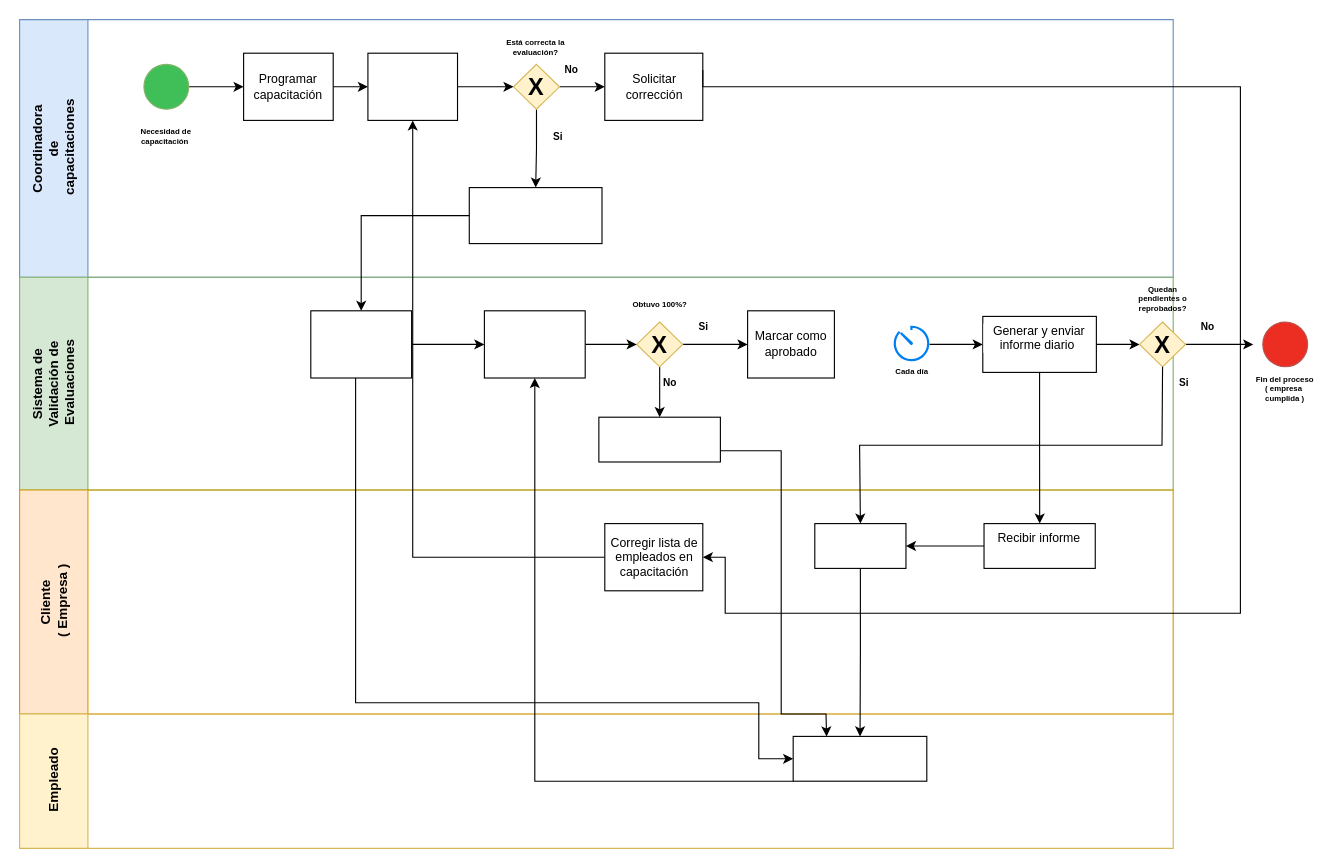
This 1338x868 diagram has some shape labels left out. The centre of each missing label's shape, as x and y in pixels:
"Cargar la lista de empleados" belongs at point 412,86.
"Configurar y cargar evaluación a la plataforma" belongs at point 535,215.
"Contactar pendientes" belongs at point 860,545.
"Enviar invitación a empleados" belongs at point 361,344.
"Marcar como reprobado" belongs at point 659,439.
"Responder evaluación" belongs at point 859,758.
"Verificar respuestas de evaluación" belongs at point 534,344.
